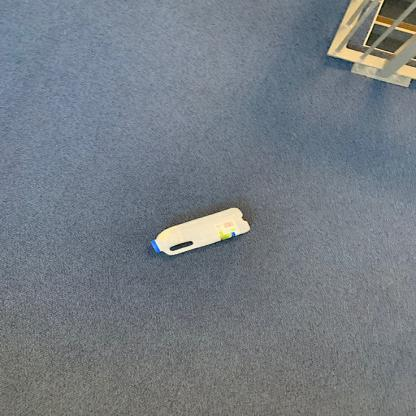trash: (149, 207, 256, 260)
